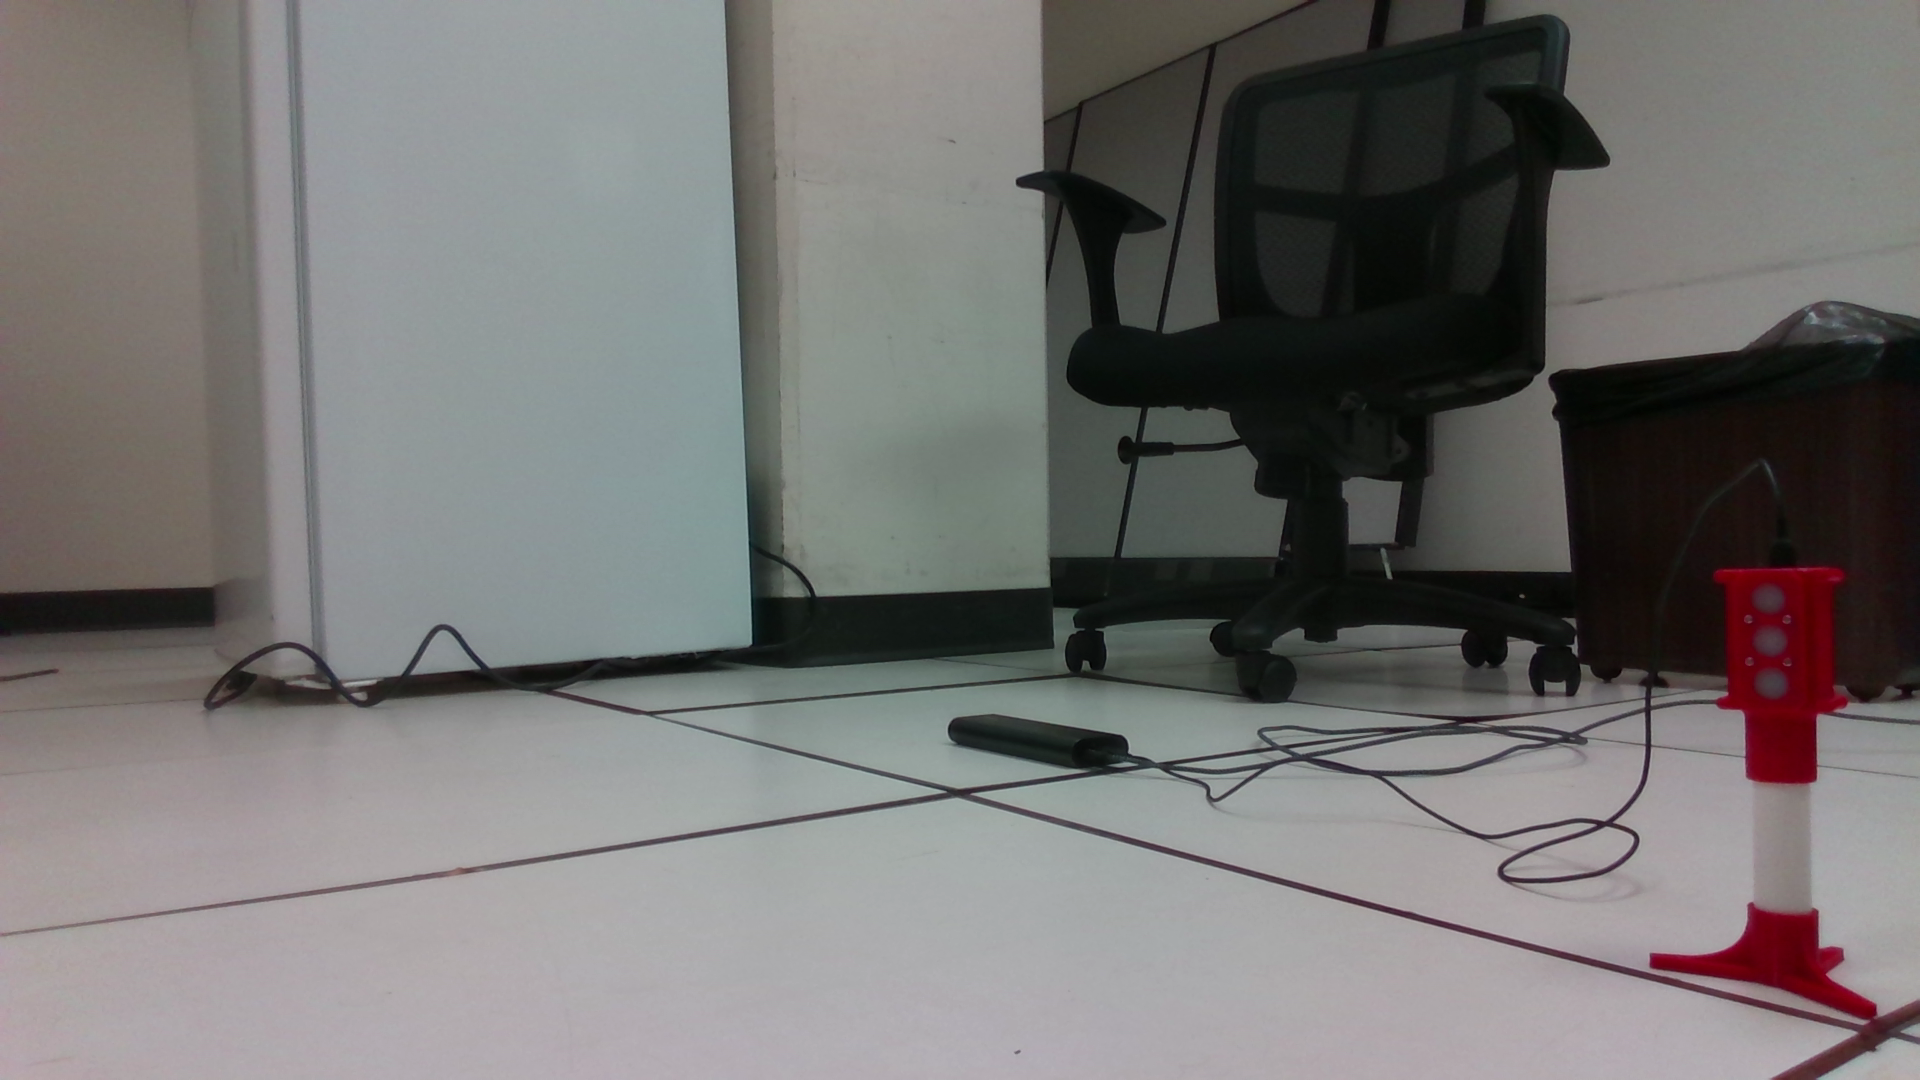stoplight: (1713, 571, 1850, 785)
